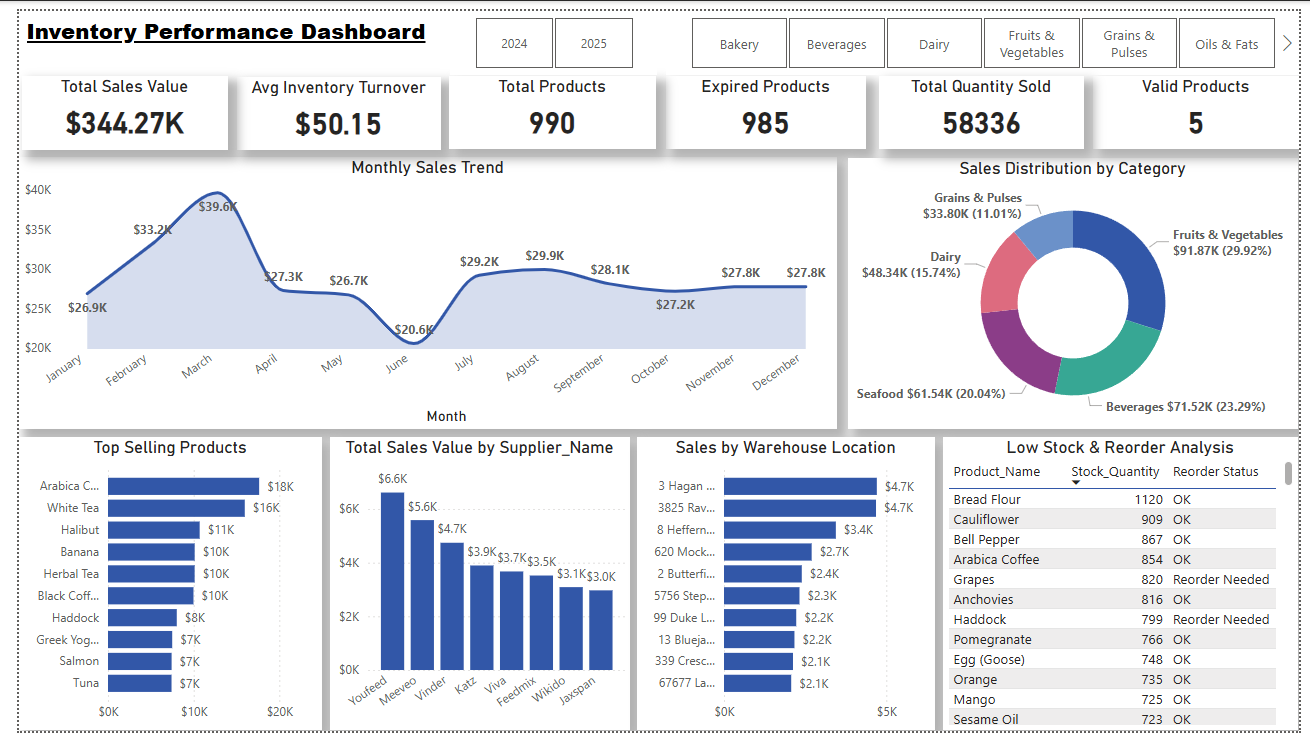

Layout of this report page (visuals, bound fields, positions):
{"tool":"powerbi","page":{"name":"Page 1","canvas":[1280,720],"ordinal":0},"visuals":[{"type":"lineChart","title":"Monthly Sales Trend","fields":{"Y":["Grocery_Inventory new.Total Sales Value"],"Category":["Grocery_Inventory new.Expiration_Date.Variation.Date Hierarchy.Month"]},"box":[0,146.4,818,271.4],"z":0},{"type":"kpi","title":"Expired Products","fields":{"Indicator":["DateTable.Expired Count"],"TrendLine":["DateTable.Date"]},"box":[647,64.6,199.6,73],"z":1000},{"type":"donutChart","title":"Sales Distribution by Category","fields":{"Category":["Grocery_Inventory new.Catagory"],"Y":["Grocery_Inventory new.Total Sales Value"]},"box":[828.6,147.3,450,270.4],"z":1000},{"type":"textbox","box":[2.9,0,419.2,64.4],"z":2000},{"type":"kpi","title":"Avg Inventory Turnover","fields":{"Indicator":["DateTable.Avg Turnover"],"TrendLine":["DateTable.Year"]},"box":[217.8,65.6,204.6,73],"z":2000},{"type":"kpi","title":"Total Products","fields":{"Indicator":["DateTable.Total Products"],"TrendLine":["DateTable.Year"]},"box":[430.4,64.6,206.6,73],"z":4000},{"type":"clusteredBarChart","title":"Top Selling Products","fields":{"Y":["Grocery_Inventory new.Total Sales Value"],"Category":["Grocery_Inventory new.Product_Name"]},"box":[0,426,303,293],"z":4000},{"type":"clusteredColumnChart","fields":{"Category":["Grocery_Inventory new.Supplier_Name"],"Y":["Grocery_Inventory new.Total Sales Value"]},"box":[311,426,300,293],"z":5000},{"type":"barChart","title":"Sales by Warehouse Location","fields":{"Category":["Grocery_Inventory new.Warehouse_Location"],"Y":["Grocery_Inventory new.Total Sales Value"]},"box":[617.9,426.3,298.6,292.9],"z":6000},{"type":"tableEx","title":"Low Stock & Reorder Analysis","fields":{"Values":["Grocery_Inventory new.Product_Name","Sum(Grocery_Inventory new.Stock_Quantity)","DateTable.Reorder Status Final"]},"box":[924,426,355,293],"z":7000},{"type":"slicer","fields":{"Values":["Grocery_Inventory new.Date_Received.Variation.Date Hierarchy.Year"]},"box":[430.8,0,206.7,64.4],"z":8000},{"type":"kpi","title":"Valid Products","fields":{"Indicator":["DateTable.Valid Count"],"TrendLine":["DateTable.Date"]},"box":[1074.2,64.6,205.6,73],"z":8000},{"type":"slicer","fields":{"Values":["Grocery_Inventory new.Catagory"]},"box":[647.1,0,632.7,64.4],"z":9000},{"type":"kpi","title":"Total Quantity Sold","fields":{"TrendLine":["DateTable.Date"],"Indicator":["DateTable.Total Quantity Sold"]},"box":[859.6,64.6,205.6,73],"z":9000},{"type":"kpi","title":"Total Sales Value","fields":{"Indicator":["Grocery_Inventory new.Total Sales Value"],"TrendLine":["DateTable.Year"]},"box":[3.2,65.2,205.5,73.3],"z":11000}]}

Visuals, with their boxes in screenshot pixels (x1, y1, x2, y2), scaled from the page's 1280x720 canvas onto the 1310x738 screenshot:
"Monthly Sales Trend" lineChart: detection(0, 150, 837, 428)
"Expired Products" kpi: detection(662, 66, 866, 141)
"Sales Distribution by Category" donutChart: detection(848, 151, 1309, 428)
textbox: detection(3, 0, 432, 66)
"Avg Inventory Turnover" kpi: detection(223, 67, 432, 142)
"Total Products" kpi: detection(440, 66, 652, 141)
"Top Selling Products" clusteredBarChart: detection(0, 437, 310, 737)
clusteredColumnChart - Grocery_Inventory new.Supplier_Name x Grocery_Inventory new.Total Sales Value: detection(318, 437, 625, 737)
"Sales by Warehouse Location" barChart: detection(632, 437, 938, 737)
"Low Stock & Reorder Analysis" tableEx: detection(946, 437, 1309, 737)
slicer - Grocery_Inventory new.Date_Received.Variation.Date Hierarchy.Year: detection(441, 0, 652, 66)
"Valid Products" kpi: detection(1099, 66, 1309, 141)
slicer - Grocery_Inventory new.Catagory: detection(662, 0, 1309, 66)
"Total Quantity Sold" kpi: detection(880, 66, 1090, 141)
"Total Sales Value" kpi: detection(3, 67, 214, 142)
